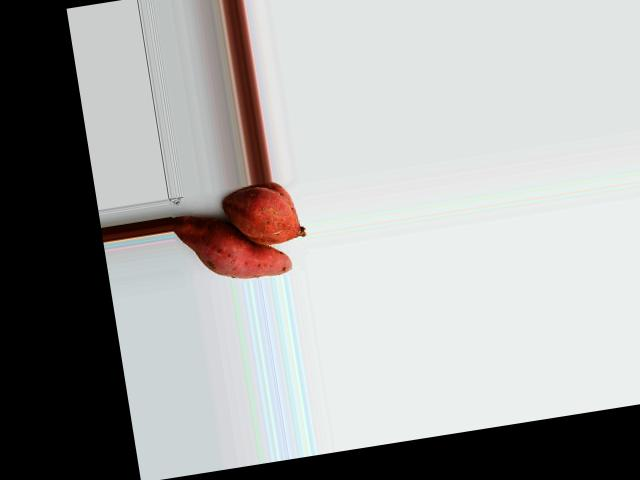sweet_potato: (225, 185, 307, 245)
